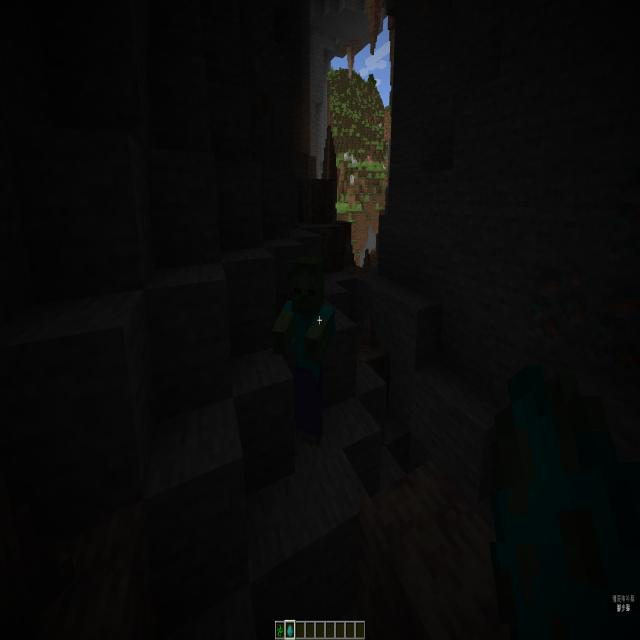Zombie: (270, 254, 342, 478)
